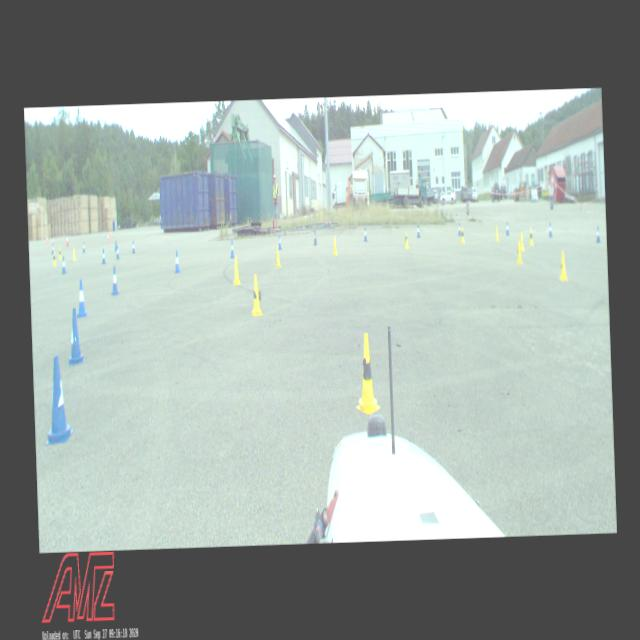blue_cone: (42, 354, 74, 444), (66, 307, 84, 363), (74, 280, 88, 316), (110, 265, 118, 294), (174, 250, 180, 272), (594, 226, 600, 243), (61, 256, 66, 274), (312, 229, 317, 245), (230, 240, 234, 257), (277, 233, 281, 249), (363, 226, 367, 242), (101, 248, 105, 264), (548, 221, 552, 237), (505, 222, 509, 235), (416, 224, 420, 237), (457, 222, 461, 234), (116, 245, 119, 259), (82, 241, 85, 252), (51, 243, 54, 254), (114, 240, 117, 250), (132, 240, 134, 253)
orange_cone: (66, 235, 68, 247), (52, 237, 54, 245), (107, 233, 109, 240), (46, 235, 47, 242)
yellow_cone: (354, 333, 381, 414), (250, 274, 262, 314), (558, 251, 567, 281), (232, 255, 240, 285), (515, 240, 522, 263), (274, 242, 280, 268), (518, 232, 524, 252), (332, 235, 338, 255), (403, 230, 408, 248), (528, 227, 533, 244), (460, 226, 464, 242), (494, 226, 498, 242), (52, 250, 56, 265), (58, 247, 62, 260), (72, 247, 76, 260)
